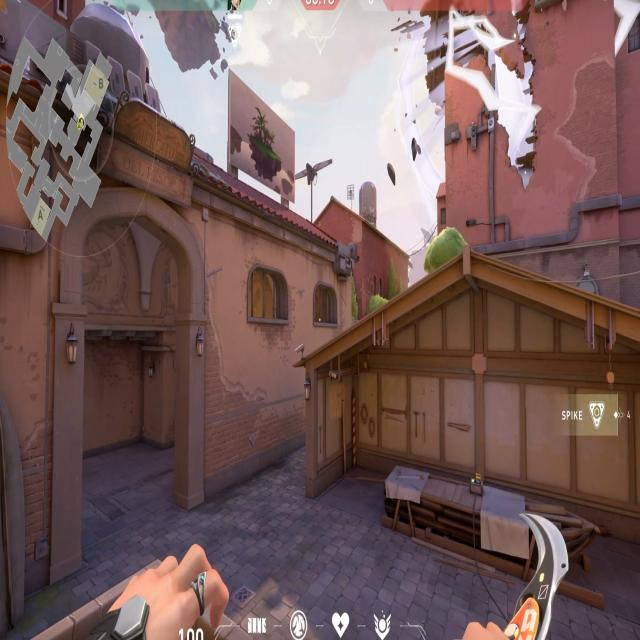B_Garage_Left: (301, 365, 481, 552)
Throwables: (245, 263, 292, 330), (311, 279, 341, 332)
